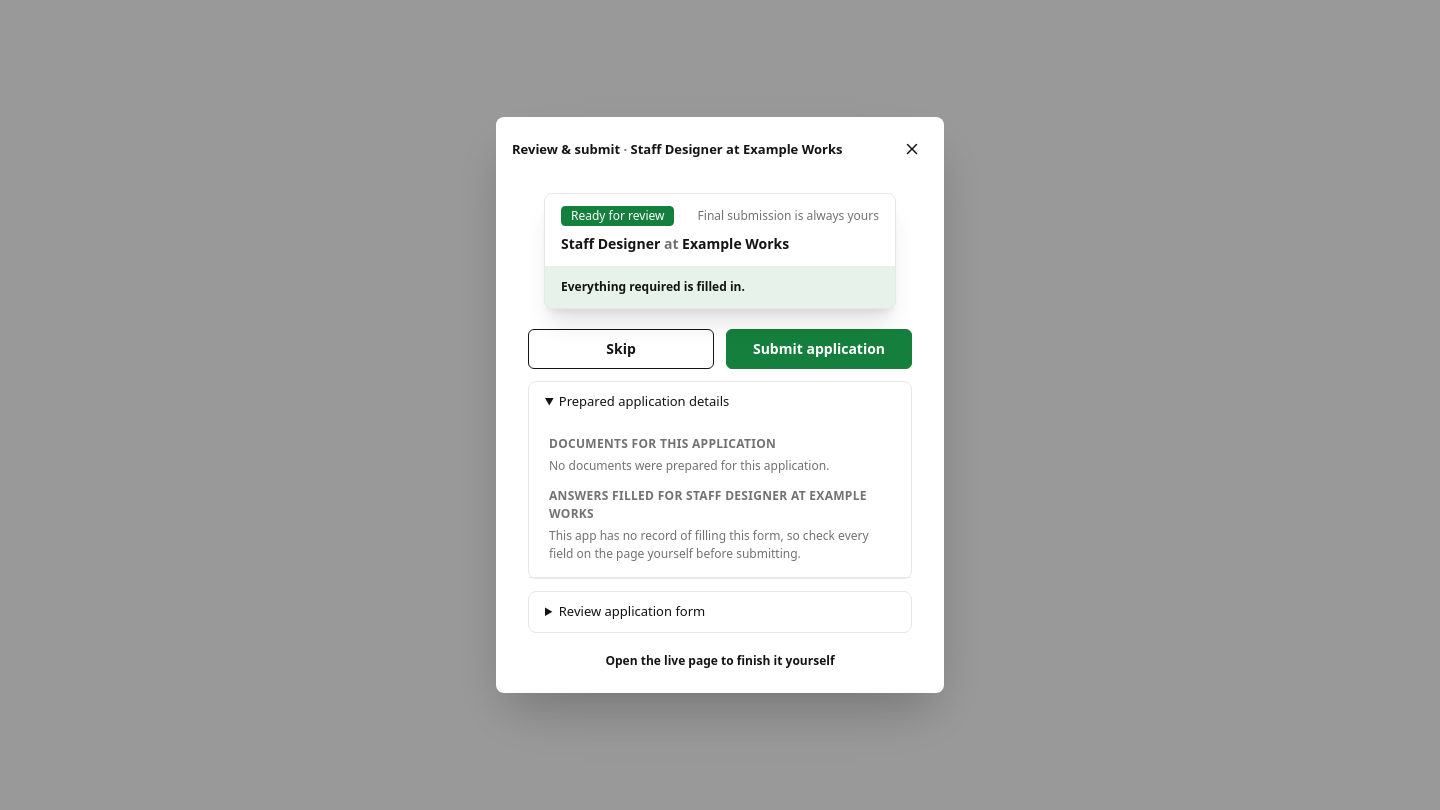
Test: ApplicationReviewSession error screen (#468) › keeps Close available on every error screen
Click the button "Submit application".
click(819, 349)  # box [726, 329, 912, 369]
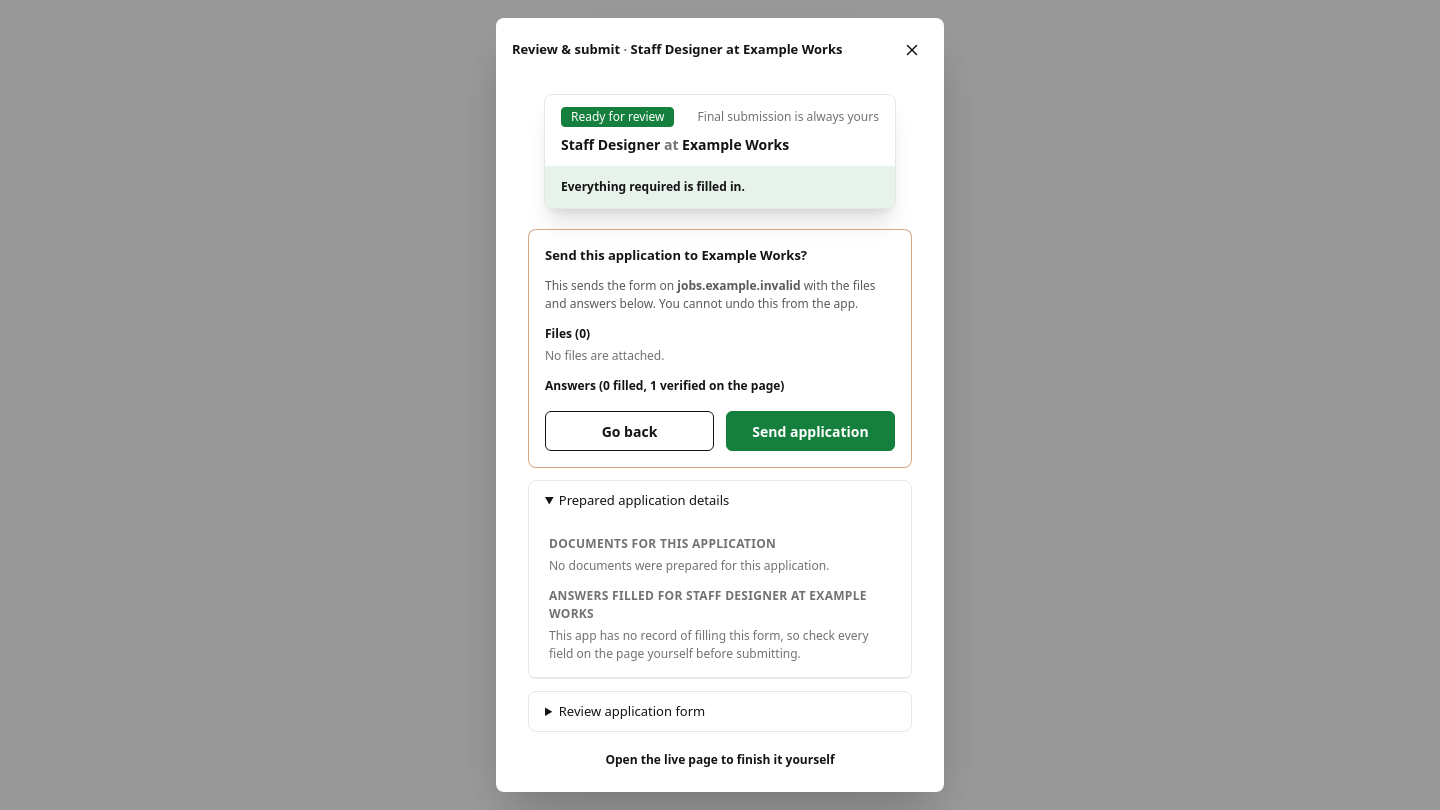
Click the button "Send application".
click(810, 431)  # box [726, 411, 895, 451]
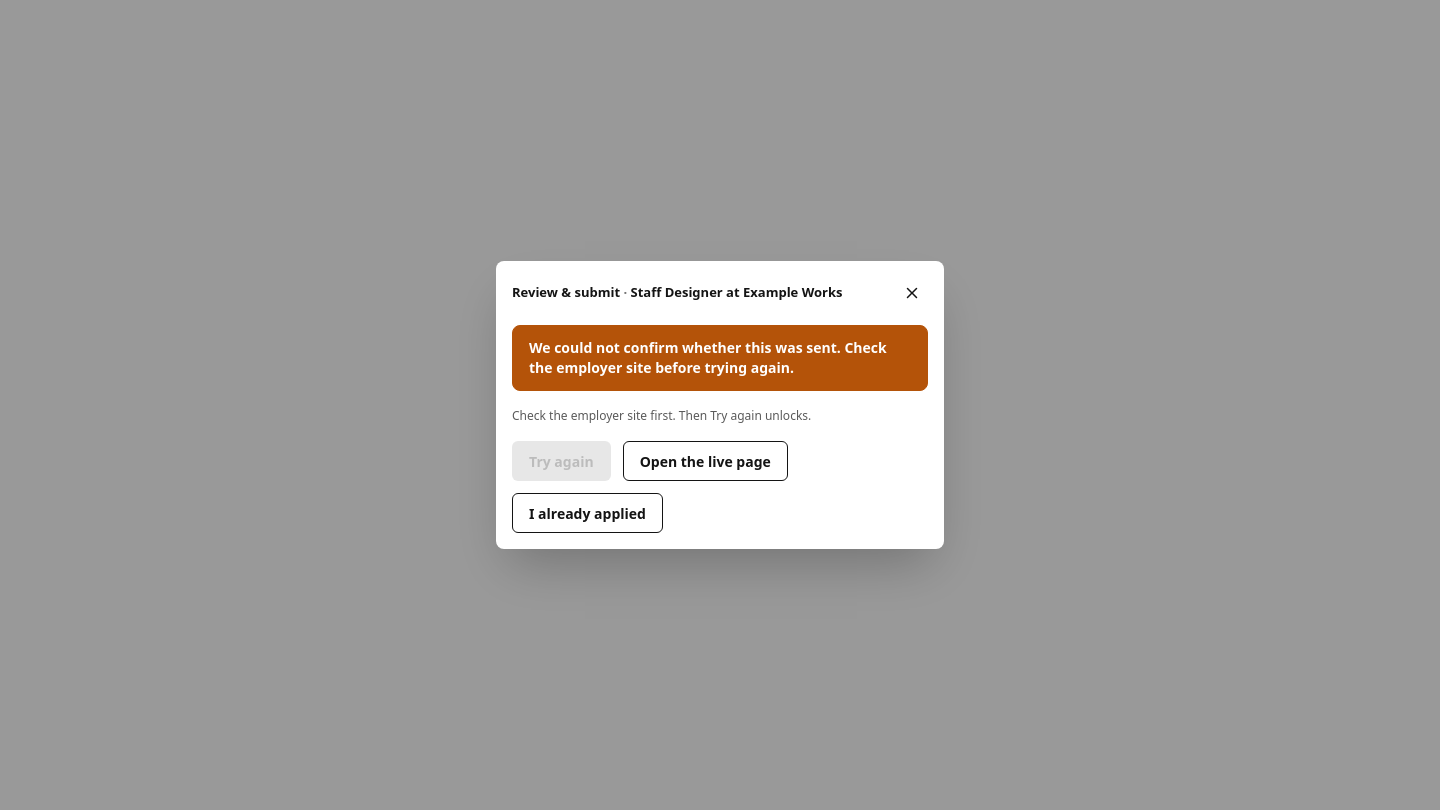
Expected: the button named "Close" is shown, [896, 277, 928, 309]
Expected: the message is shown, [512, 325, 928, 391]
